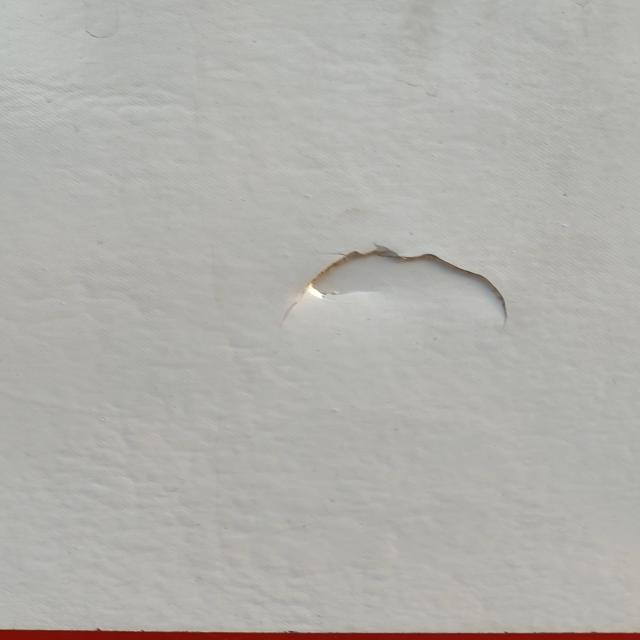Scratches: (278, 231, 528, 346)
